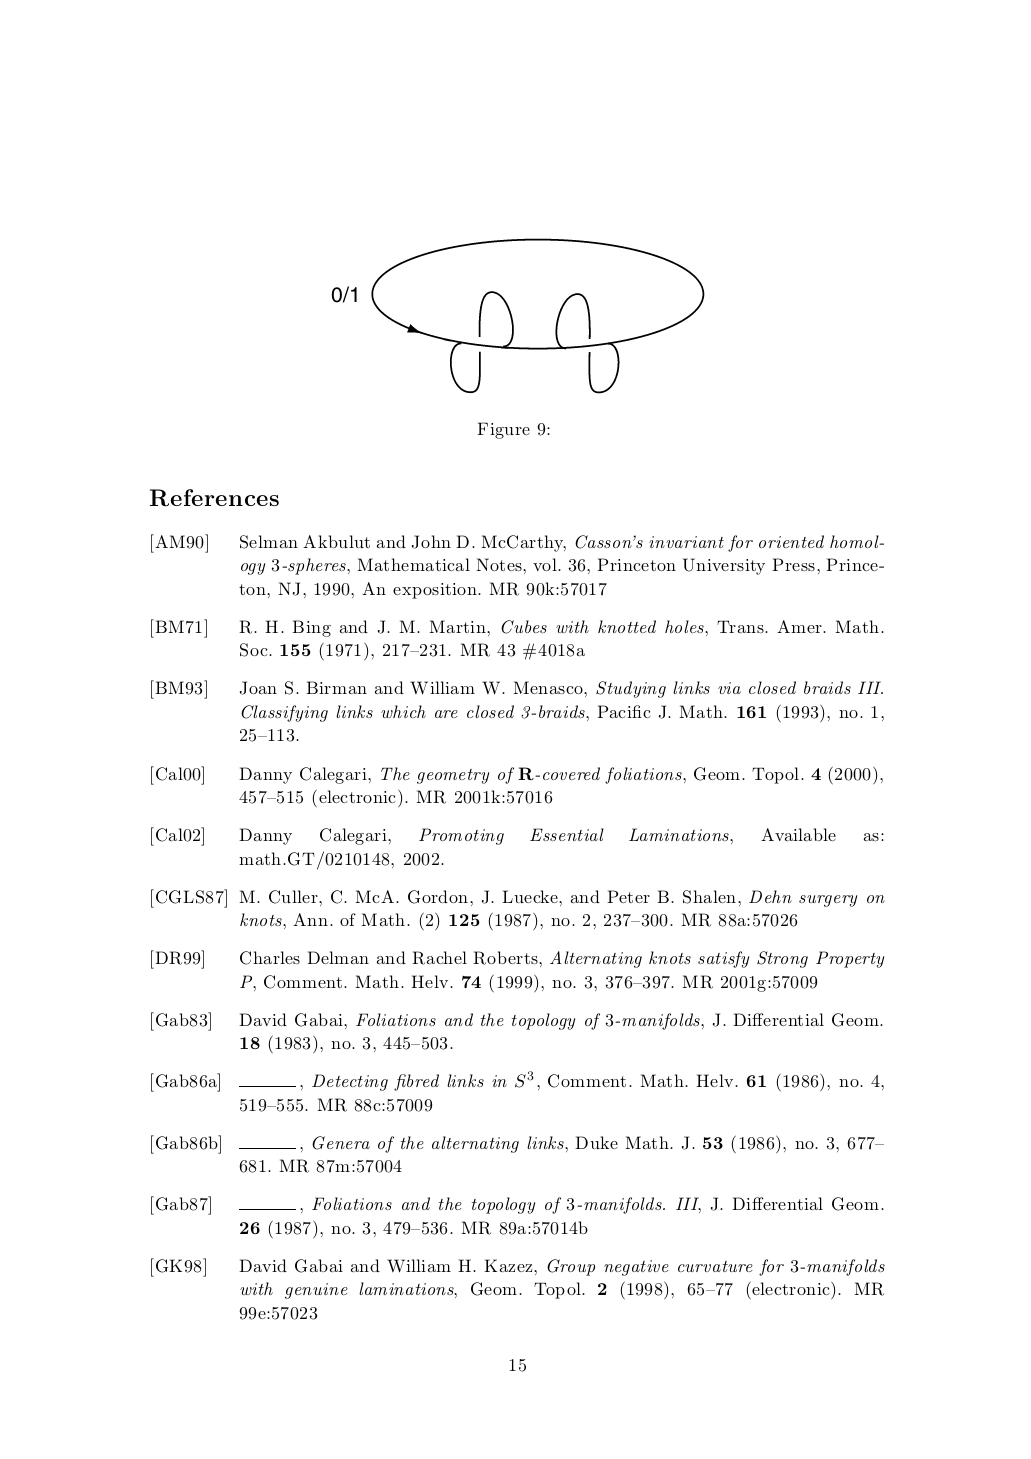figure: (331, 236, 704, 394)
